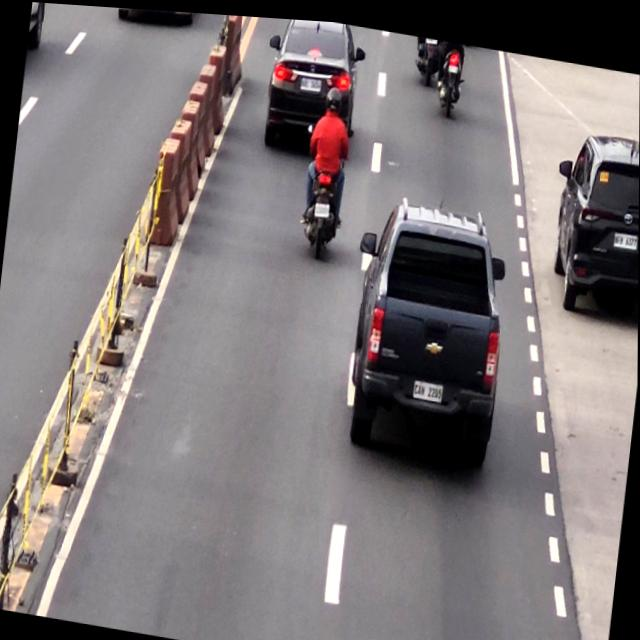Car: (343, 191, 516, 470), (551, 119, 639, 303), (262, 14, 365, 152)
License-Plate: (411, 372, 444, 397), (613, 220, 639, 242), (300, 72, 321, 90), (313, 198, 330, 214)
Motorcycle: (300, 80, 354, 254)
